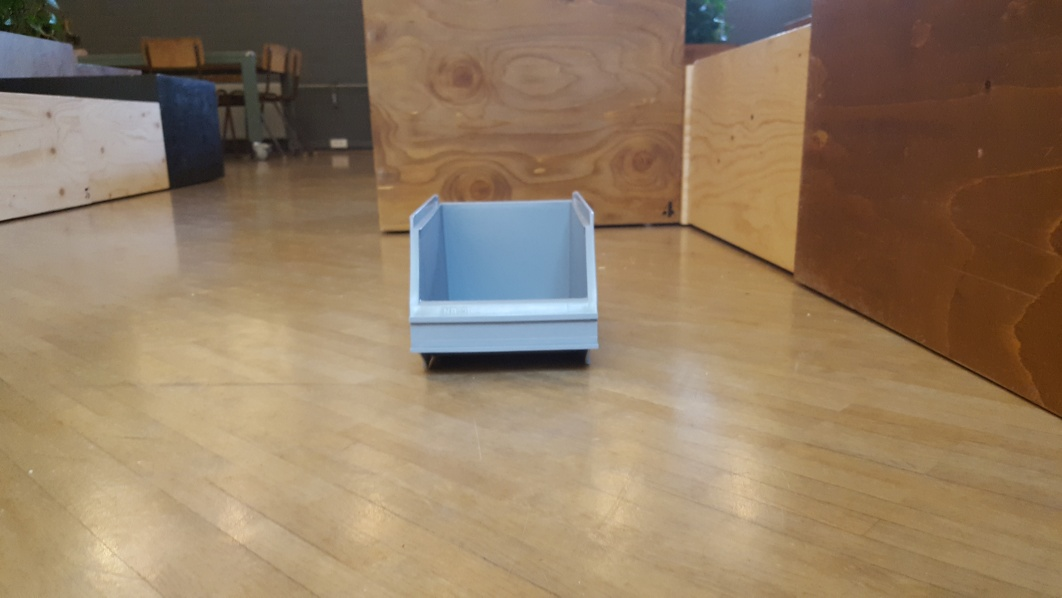tray: (408, 190, 601, 370)
